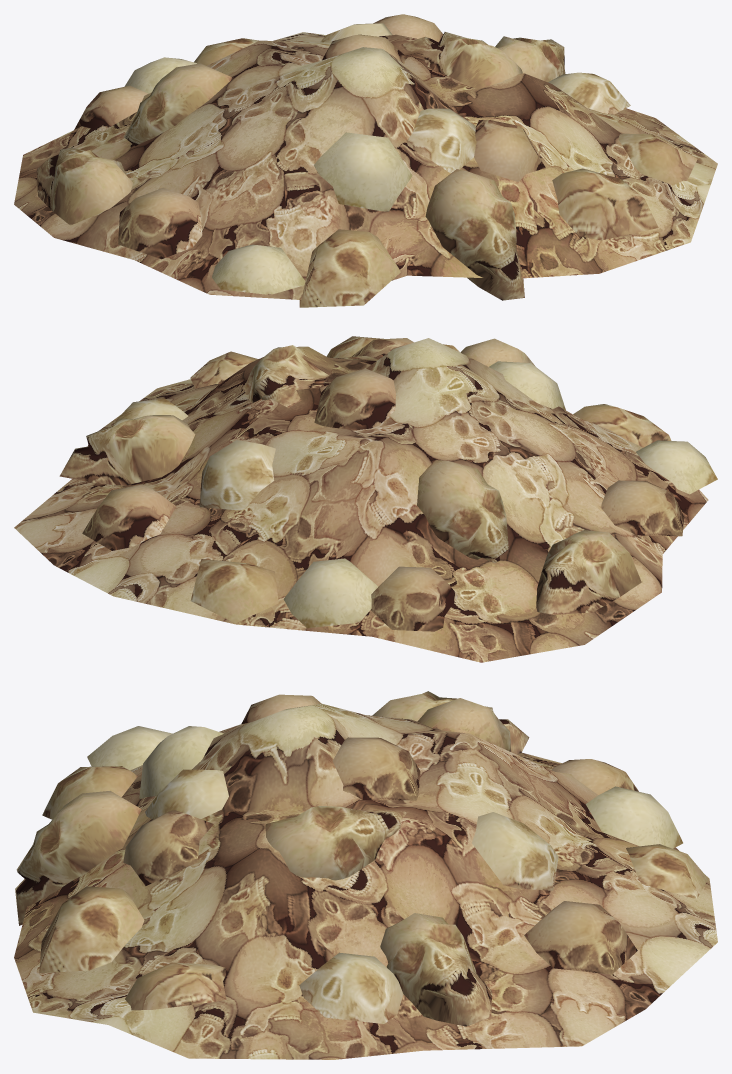
Rendered from pile_of_skulls.glb.
3 renders of one model, top to bottom at view 1: azimuth 30°, elevation 25°; view 2: azimuth 150°, elevation 25°; view 3: azimuth 270°, elevation 25°, orthographic. The views are drawn at different scales.
Parts seen in each view (by area): view 1: Box001; view 2: Box001; view 3: Box001.
Boxes of the visible parts, bbox=[...] form: Box001: bbox=[14, 14, 717, 307]; Box001: bbox=[14, 336, 717, 662]; Box001: bbox=[14, 691, 717, 1059].
Size of the model in its own units: 140 by 38.5 by 127.
1 material, 1 textured.
